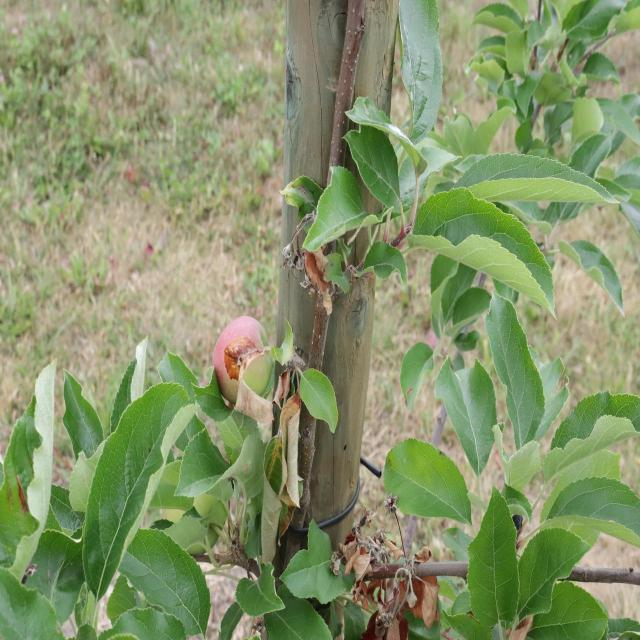-FireBlight-: (336, 511, 439, 640), (266, 359, 310, 527), (292, 236, 330, 294)
